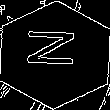N_E: (26, 34, 84, 76)
